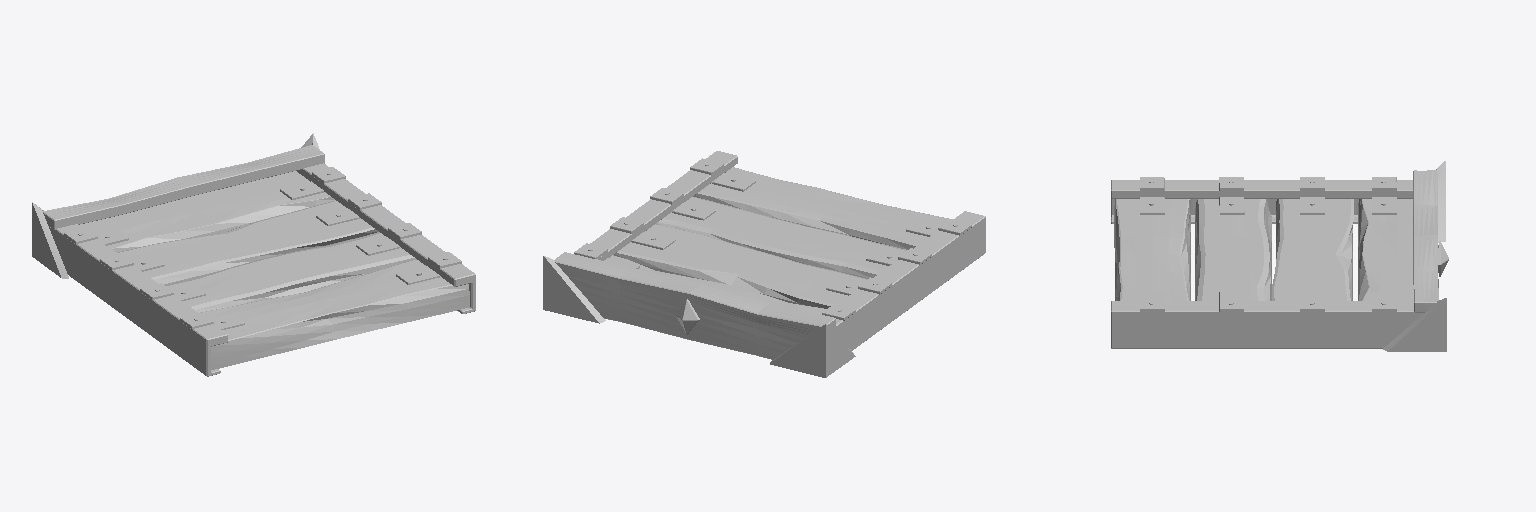
File: MovingPlatform1.Obj
The picture shows the model from 3 angles: view 1: azimuth 30°, elevation 25°; view 2: azimuth 150°, elevation 25°; view 3: azimuth 270°, elevation 25°; orthographic projection.
Visible parts, largest first — view 1: ZBrush_defualt_group; view 2: ZBrush_defualt_group; view 3: ZBrush_defualt_group.
Part boxes in pixels (bbox=[...]): ZBrush_defualt_group: bbox=[32, 133, 475, 376]; ZBrush_defualt_group: bbox=[543, 151, 985, 377]; ZBrush_defualt_group: bbox=[1111, 161, 1448, 351].
Bounding box in the file's own units: 2.12 × 0.3946 × 2.21.